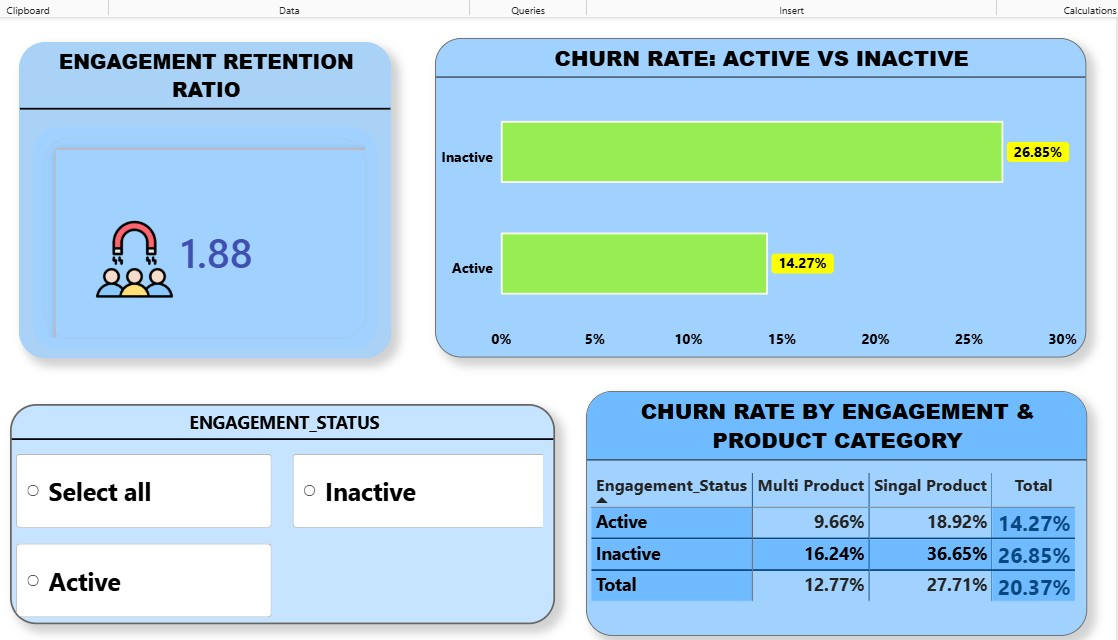

The page's visual inventory and layout, read from the dashboard file:
{"tool":"powerbi","page":{"name":"Engagement vs Churn","canvas":[1280,720],"ordinal":1},"visuals":[{"type":"clusteredBarChart","title":"CHURN RATE: ACTIVE VS INACTIVE","fields":{"Category":["BANK_CHURN_ANALYSIS.Engagement_Status"],"Y":["BANK_CHURN_ANALYSIS.Churn Rate %"]},"box":[503.9,24.3,742.4,363.8],"z":0},{"type":"pivotTable","title":"CHURN RATE BY ENGAGEMENT & PRODUCT CATEGORY","fields":{"Rows":["BANK_CHURN_ANALYSIS.Engagement_Status"],"Columns":["BANK_CHURN_ANALYSIS.Product_Category"],"Values":["BANK_CHURN_ANALYSIS.Churn Rate %"]},"box":[675,425.8,571.3,278.9],"z":1000},{"type":"cardVisual","title":"ENGAGEMENT RETENTION RATIO","fields":{"Data":["BANK_CHURN_ANALYSIS.Engagement Retention Ratio"]},"box":[29.6,28.3,424.4,359.7],"z":2000},{"type":"advancedSlicerVisual","title":"ENGAGEMENT_STATUS","fields":{"Values":["BANK_CHURN_ANALYSIS.Engagement_Status"]},"box":[18.9,440.6,621.1,250.6],"z":3000},{"type":"image","box":[115.9,229.1,90.3,94.3],"z":4000}]}

Visuals, with their boxes on the page's 1280x720 design canvas (x1, y1, x2, y2). These are canvas units, not pixel positions in the 1118x640 screenshot, which may show the page scaled, cropped or inside an application window:
"CHURN RATE: ACTIVE VS INACTIVE" clusteredBarChart: (504, 24, 1246, 388)
"CHURN RATE BY ENGAGEMENT & PRODUCT CATEGORY" pivotTable: (675, 426, 1246, 705)
"ENGAGEMENT RETENTION RATIO" cardVisual: (30, 28, 454, 388)
"ENGAGEMENT_STATUS" advancedSlicerVisual: (19, 441, 640, 691)
image: (116, 229, 206, 323)
